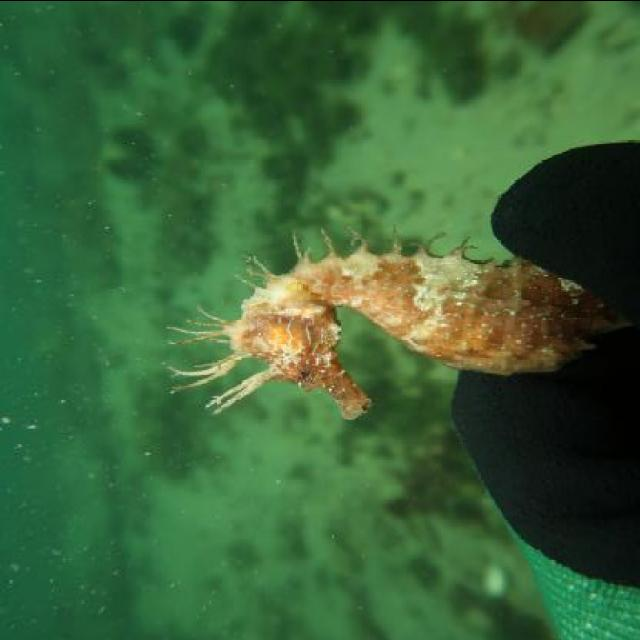Guttu: (213, 288, 375, 424)
